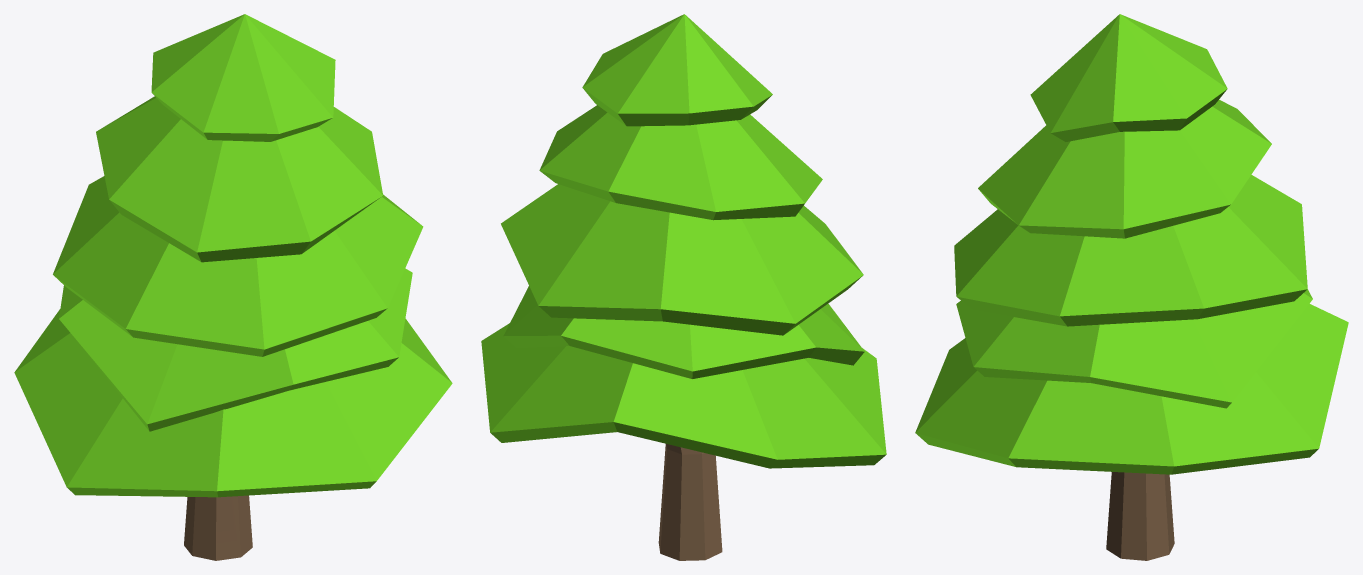
File: Tree_04.fbx
The picture shows the model from 3 angles, left to right: view 1: azimuth 30°, elevation 25°; view 2: azimuth 150°, elevation 25°; view 3: azimuth 270°, elevation 25°; orthographic projection. The views are drawn at different scales.
Visible parts, largest first — view 1: Tree_04; view 2: Tree_04; view 3: Tree_04.
Part boxes in pixels (x1,y1,x2,y2): Tree_04: [14, 14, 452, 560]; Tree_04: [481, 14, 886, 560]; Tree_04: [915, 14, 1348, 560].
Size of the model in its own units: 259 by 354 by 258.
